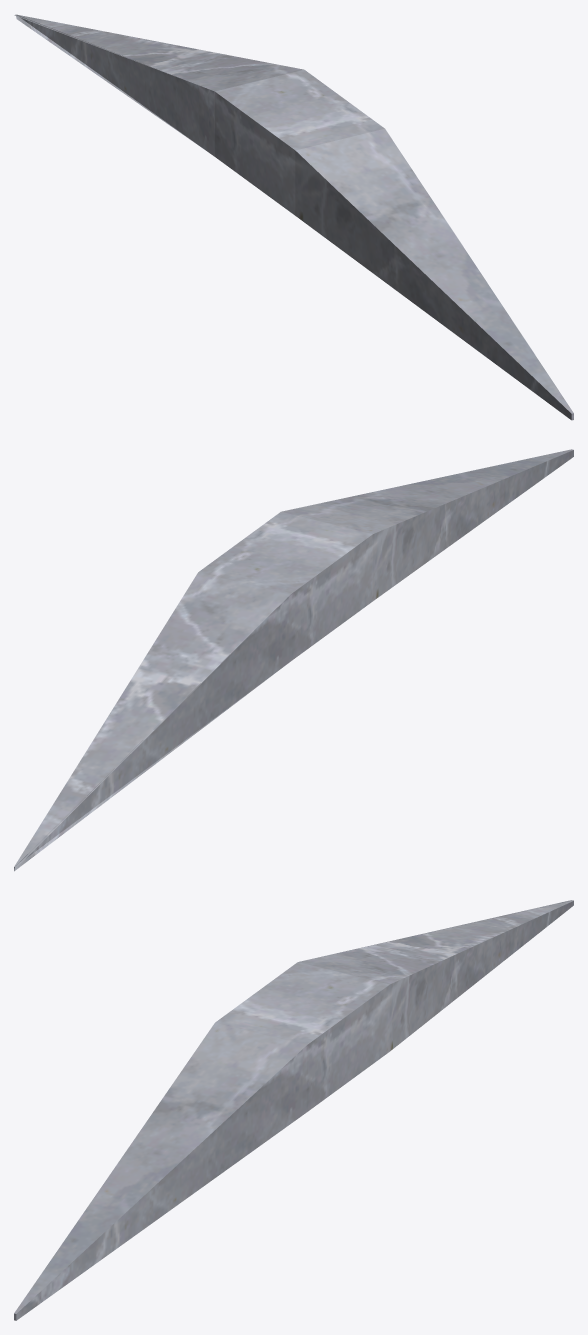
File: pick aud hed.obj
3 renders of one model, top to bottom at view 1: azimuth 30°, elevation 25°; view 2: azimuth 150°, elevation 25°; view 3: azimuth 330°, elevation 25°, orthographic. The views are drawn at different scales.
Visible parts, largest first — view 1: Head1; view 2: Head1; view 3: Head1.
Boxes of the visible parts, x1,y1,x2,y2 form: Head1: (14,14,573,420); Head1: (14,449,573,871); Head1: (14,900,573,1320).
Bounding box in the file's own units: 0.28 × 0.32 × 2.98.
